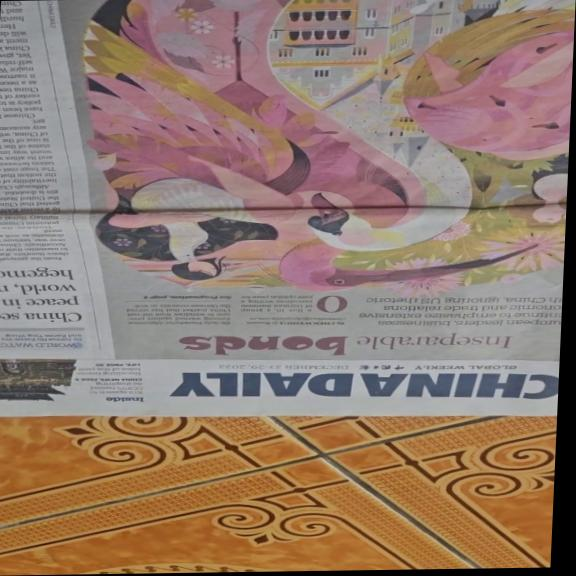Kertas: (0, 0, 570, 420)
